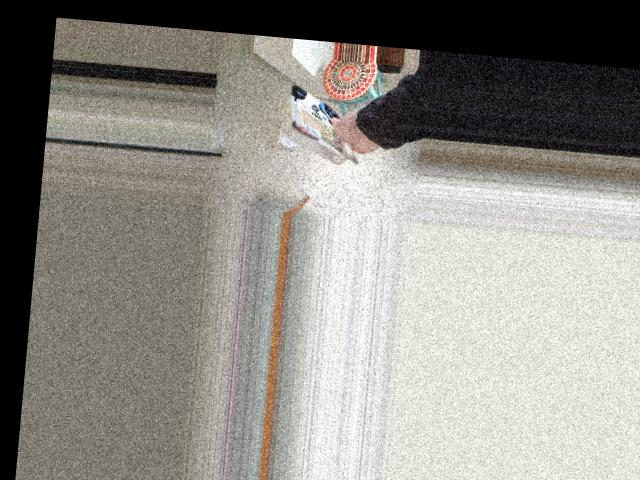cheese: (275, 70, 384, 177)
